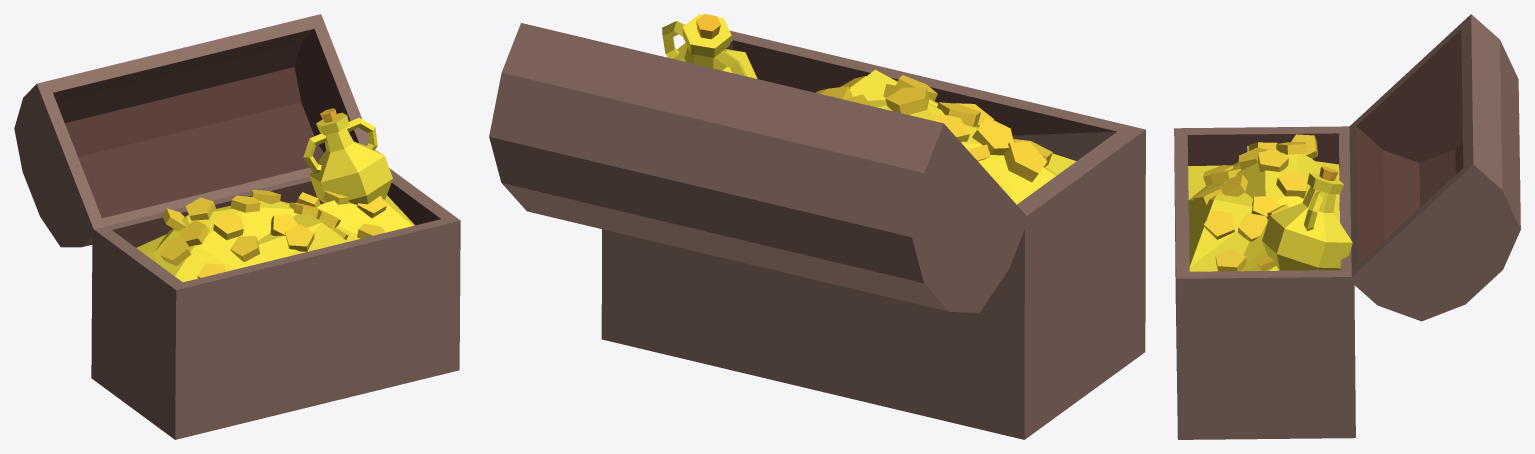
File: treasure.glb
The picture shows the model from 3 angles, left to right: view 1: azimuth 30°, elevation 25°; view 2: azimuth 150°, elevation 25°; view 3: azimuth 270°, elevation 25°; orthographic projection. The views are drawn at different scales.
Parts seen in each view (by area): view 1: Ship_019; view 2: Ship_019; view 3: Ship_019.
Boxes of the visible parts, x1,y1,x2,y2 form: Ship_019: (14, 14, 460, 439); Ship_019: (489, 14, 1145, 439); Ship_019: (1174, 14, 1520, 439).
Size of what is drawn, in the model's own units: 1 by 0.8556 by 0.9751.
1 material, 1 textured.
